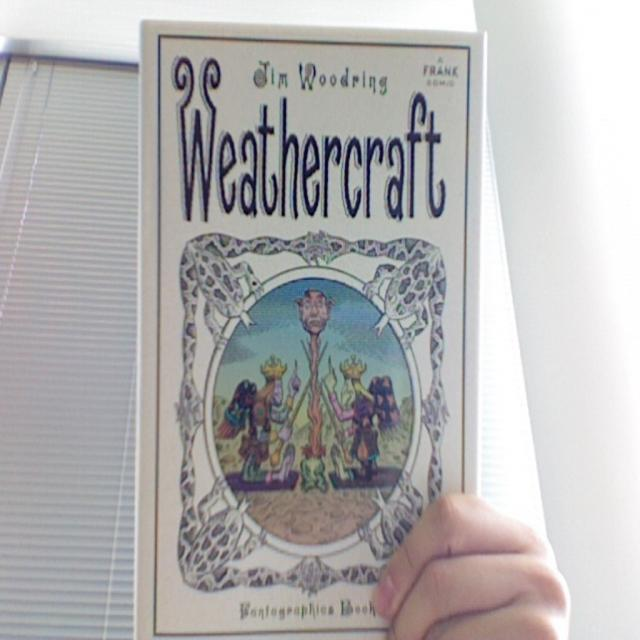book: (127, 22, 486, 640)
